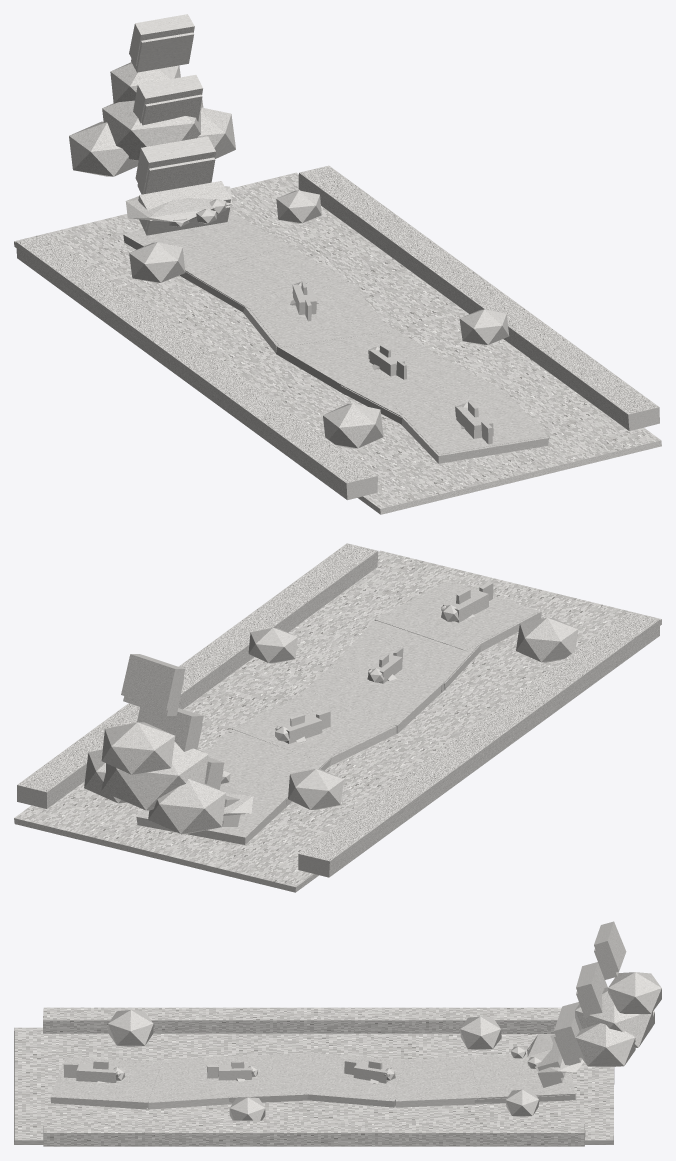
The model's file is bethlehem_stream_fish_alive.glb.
3 renders of one model, top to bottom at view 1: azimuth 30°, elevation 25°; view 2: azimuth 150°, elevation 25°; view 3: azimuth 270°, elevation 25°, orthographic. The views are drawn at different scales.
Parts seen in each view (by area): view 1: StreamBed, Bank_0, Bank_1, Stream_Sheet_3, Stream_Sheet_0, Stream_Sheet_4_Outline, Stream_Sheet_1_Outline, Stream_Sheet_5_Outline, Stream_Sheet_2_Outline, WF_Rock_0, WF_Rock_1, Rock_0 (+18 smaller); view 2: StreamBed, Bank_0, Bank_1, Stream_Sheet_0, Stream_Sheet_2_Outline, Stream_Sheet_3, Stream_Sheet_1_Outline, Stream_Sheet_4_Outline, WF_Rock_0, WF_Rock_3, WF_Rock_1, Stream_Sheet_5_Outline (+12 smaller); view 3: StreamBed, Bank_1, Bank_0, Stream_Sheet_4_Outline, Stream_Sheet_1_Outline, Stream_Sheet_3, Stream_Sheet_0, Stream_Sheet_5_Outline, Stream_Sheet_2_Outline, WF_Rock_2, WF_Rock_3, WF_Rock_0 (+14 smaller).
Boxes of the visible parts, box(x1,y1,x2,y2) form: StreamBed: box(14, 172, 661, 514); Bank_0: box(16, 234, 377, 500); Bank_1: box(298, 165, 659, 430); Stream_Sheet_3: box(242, 284, 390, 347); Stream_Sheet_0: box(396, 390, 548, 454); Stream_Sheet_4_Outline: box(186, 246, 348, 312); Stream_Sheet_1_Outline: box(337, 351, 503, 421); Stream_Sheet_5_Outline: box(123, 211, 289, 282); Stream_Sheet_2_Outline: box(276, 325, 441, 394); WF_Rock_0: box(102, 98, 203, 160); WF_Rock_1: box(69, 121, 138, 176); Rock_0: box(323, 403, 383, 448); StreamBed: box(14, 550, 661, 892); Bank_0: box(298, 611, 659, 877); Bank_1: box(17, 543, 378, 808); Stream_Sheet_0: box(374, 581, 537, 650); Stream_Sheet_2_Outline: box(298, 659, 446, 733); Stream_Sheet_3: box(232, 691, 397, 760); Stream_Sheet_1_Outline: box(331, 620, 479, 692); Stream_Sheet_4_Outline: box(206, 732, 336, 797); WF_Rock_0: box(101, 742, 208, 810); WF_Rock_3: box(101, 722, 175, 774); WF_Rock_1: box(148, 779, 225, 833); Stream_Sheet_5_Outline: box(136, 780, 291, 844); StreamBed: box(14, 1027, 614, 1144); Bank_1: box(43, 1120, 585, 1146); Bank_0: box(43, 1007, 561, 1033); Stream_Sheet_4_Outline: box(386, 1057, 492, 1107); Stream_Sheet_1_Outline: box(146, 1057, 244, 1109); Stream_Sheet_3: box(294, 1053, 407, 1105); Stream_Sheet_0: box(53, 1057, 162, 1108); Stream_Sheet_5_Outline: box(470, 1054, 575, 1100); Stream_Sheet_2_Outline: box(219, 1053, 315, 1103); WF_Rock_2: box(575, 1023, 635, 1067); WF_Rock_3: box(608, 972, 661, 1014); WF_Rock_0: box(575, 987, 652, 1047).
Size of the model in its own units: 3.56 by 2.11 by 7.78.
Materials: 19 (19 with a texture image).
